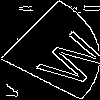W: (25, 24, 100, 91)
